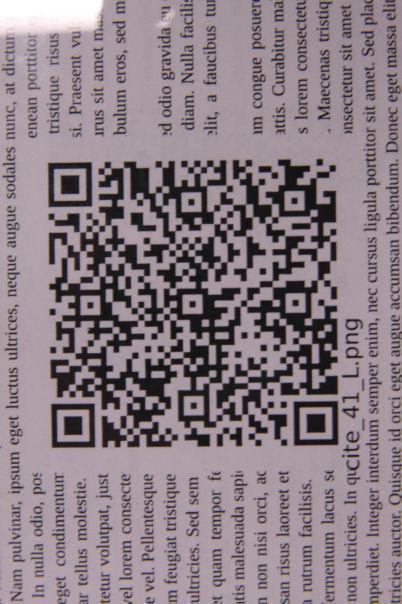qr_code: (45, 158, 339, 448)
